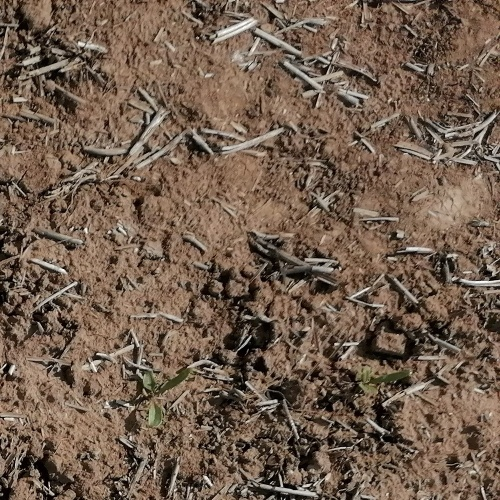beet: (141, 366, 192, 427), (357, 364, 413, 396)
